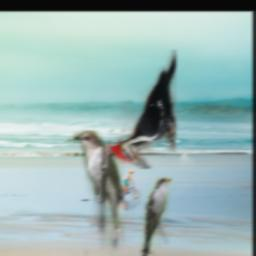Cuckoo: (74, 131, 125, 256), (141, 177, 172, 256)
Woodpecker: (107, 51, 176, 170)
